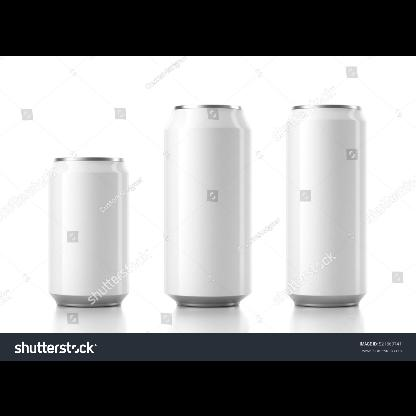Tin_Can: (157, 102, 257, 310), (280, 96, 376, 310), (44, 148, 136, 312)
